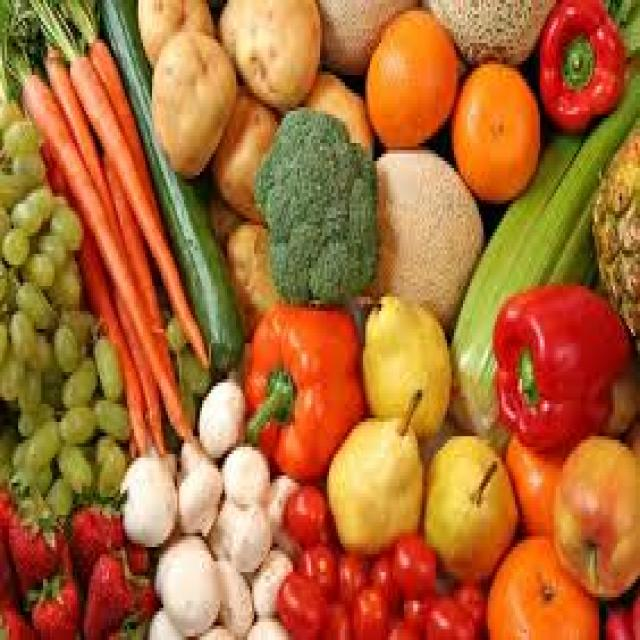organic waste: (447, 0, 638, 447), (0, 0, 188, 440), (27, 0, 202, 358), (97, 0, 240, 372), (252, 104, 379, 300), (490, 282, 629, 450), (61, 0, 161, 229), (243, 300, 365, 483), (39, 25, 124, 261), (370, 143, 481, 322), (75, 225, 154, 454), (322, 382, 427, 550), (552, 429, 638, 597), (422, 429, 513, 583), (366, 7, 458, 150), (358, 290, 449, 432), (450, 57, 540, 197), (150, 25, 231, 175), (483, 533, 597, 636), (100, 146, 163, 332), (538, 0, 624, 125), (216, 0, 322, 100), (590, 118, 638, 333), (204, 78, 277, 214), (112, 279, 164, 443), (313, 0, 422, 68), (502, 429, 568, 540), (418, 0, 549, 54), (82, 547, 156, 636), (225, 218, 281, 333), (154, 536, 218, 636), (9, 494, 73, 594), (302, 68, 374, 150), (118, 454, 177, 544), (64, 482, 120, 576), (136, 0, 211, 64), (216, 490, 270, 576), (195, 376, 243, 450), (25, 568, 77, 636), (172, 462, 218, 536), (274, 565, 324, 633), (390, 526, 436, 597), (218, 440, 268, 504), (211, 558, 252, 636), (279, 479, 327, 544), (604, 351, 638, 436), (248, 551, 290, 615), (290, 540, 334, 597), (0, 486, 20, 593), (449, 572, 484, 633), (14, 279, 56, 329), (12, 440, 54, 490), (349, 580, 386, 636), (599, 583, 638, 636), (147, 608, 218, 636), (93, 432, 125, 493), (264, 472, 290, 547), (23, 415, 59, 468), (333, 547, 368, 601), (426, 594, 469, 636), (54, 400, 96, 440), (368, 547, 397, 604), (91, 332, 118, 393), (399, 576, 434, 622), (202, 193, 236, 240), (91, 390, 125, 436), (59, 354, 95, 397), (2, 114, 36, 158), (50, 200, 79, 250), (9, 308, 34, 361), (177, 347, 209, 386), (9, 146, 43, 182), (61, 304, 95, 340), (318, 594, 347, 636), (48, 258, 77, 300), (0, 164, 30, 204), (386, 604, 422, 636), (177, 436, 213, 468), (52, 322, 77, 368), (0, 593, 27, 633), (0, 343, 20, 396), (18, 358, 41, 404), (9, 193, 39, 225), (2, 222, 28, 258), (23, 250, 52, 282), (164, 308, 186, 350), (243, 615, 286, 636), (32, 332, 54, 372), (150, 447, 177, 479), (18, 397, 52, 422), (27, 178, 50, 214), (0, 89, 20, 128), (177, 379, 193, 418), (207, 526, 220, 558), (0, 261, 7, 300), (48, 189, 61, 204)
